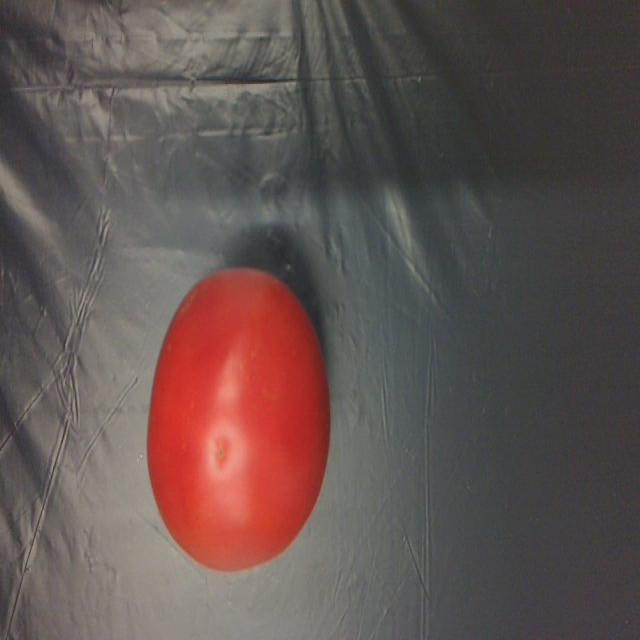kirmizi: (150, 262, 337, 568)
